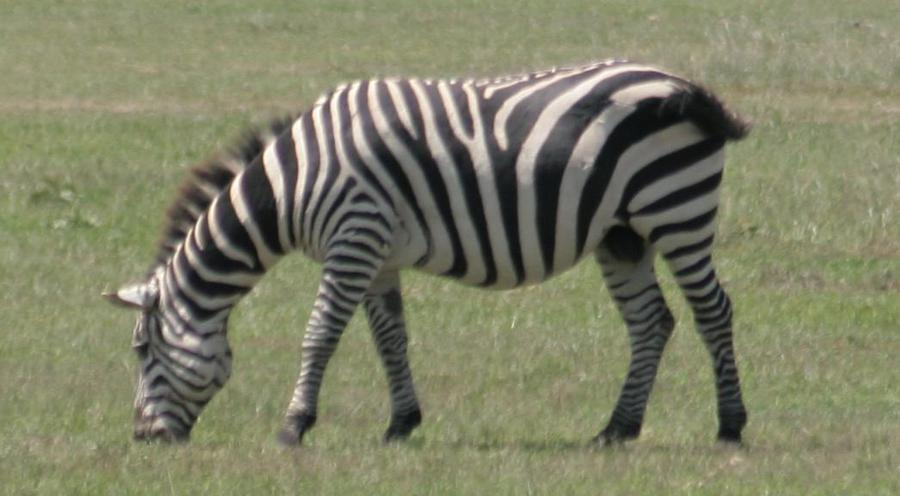zebra_plains: (192, 22, 820, 430)
